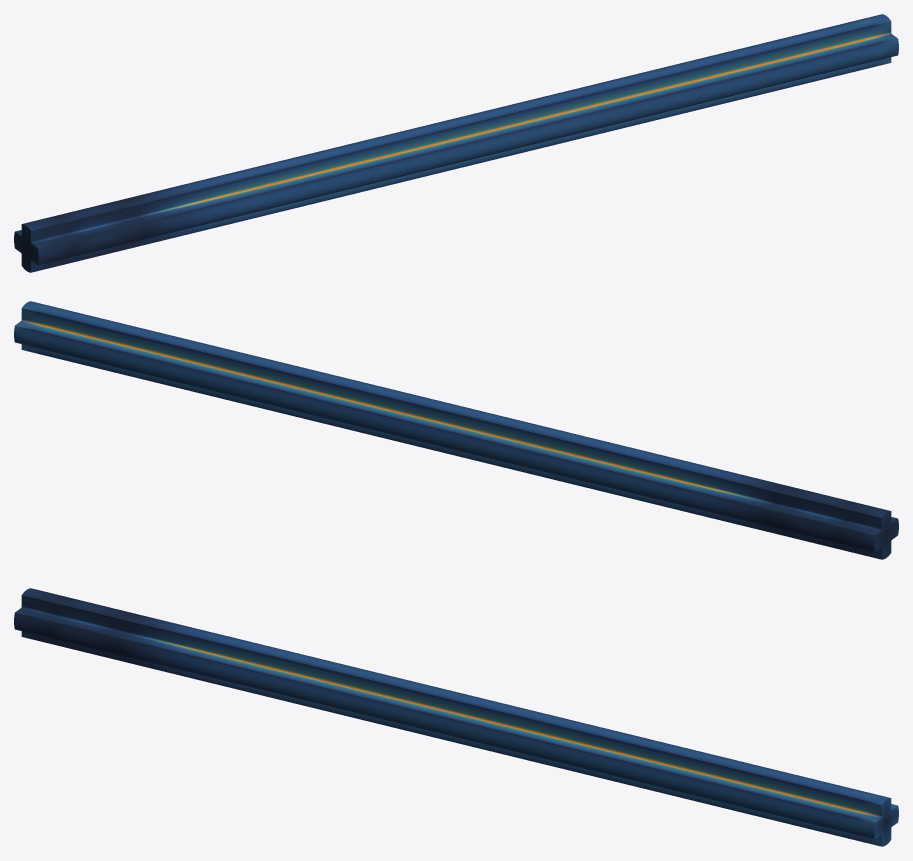
Rendered from feltengely_3708.glb.
3 views of the same model, one above another, from view 1: azimuth 30°, elevation 25°; view 2: azimuth 150°, elevation 25°; view 3: azimuth 330°, elevation 25° (orthographic).
Parts seen in each view (by area): view 1: fem; view 2: fem; view 3: fem.
Boxes of the visible parts, x1,y1,x2,y2 form: fem: (14,14,898,272); fem: (14,301,898,559); fem: (14,588,898,846).
Size of the model in its own units: 95.8 by 4.8 by 4.8.
